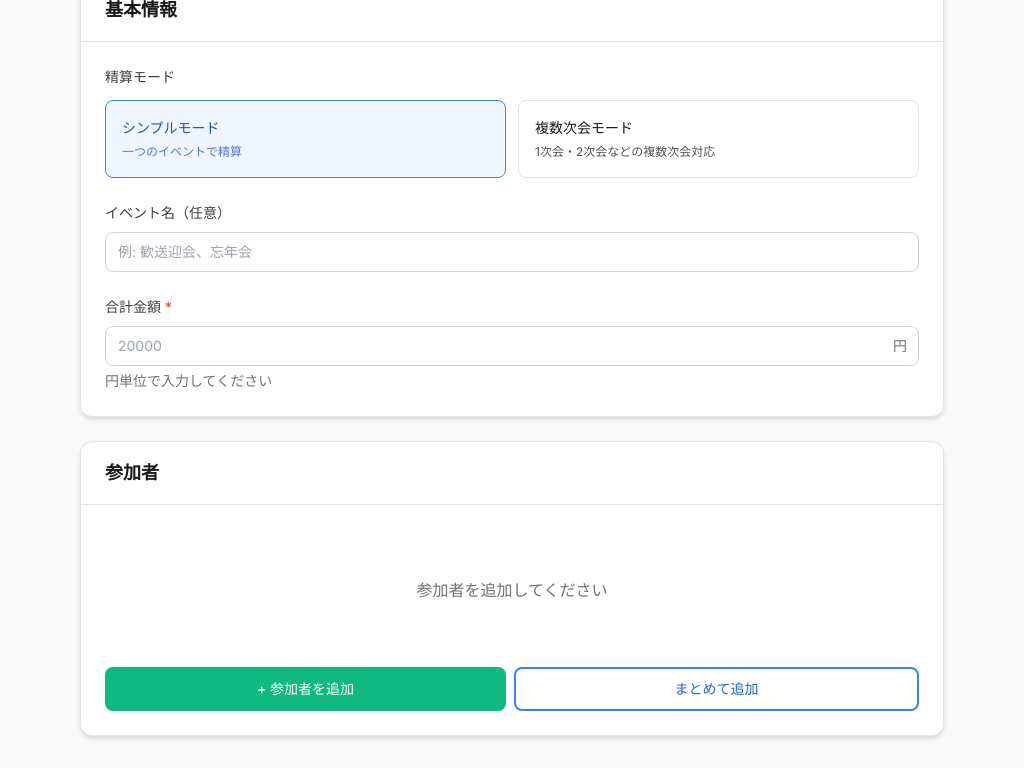
HomePage › TC010: 参加者が削除される
This screenshot has width=1024, height=768.
(page scrolled)
Click the button "+ 参加者を追加" at [306, 689], box [105,667,506,711]
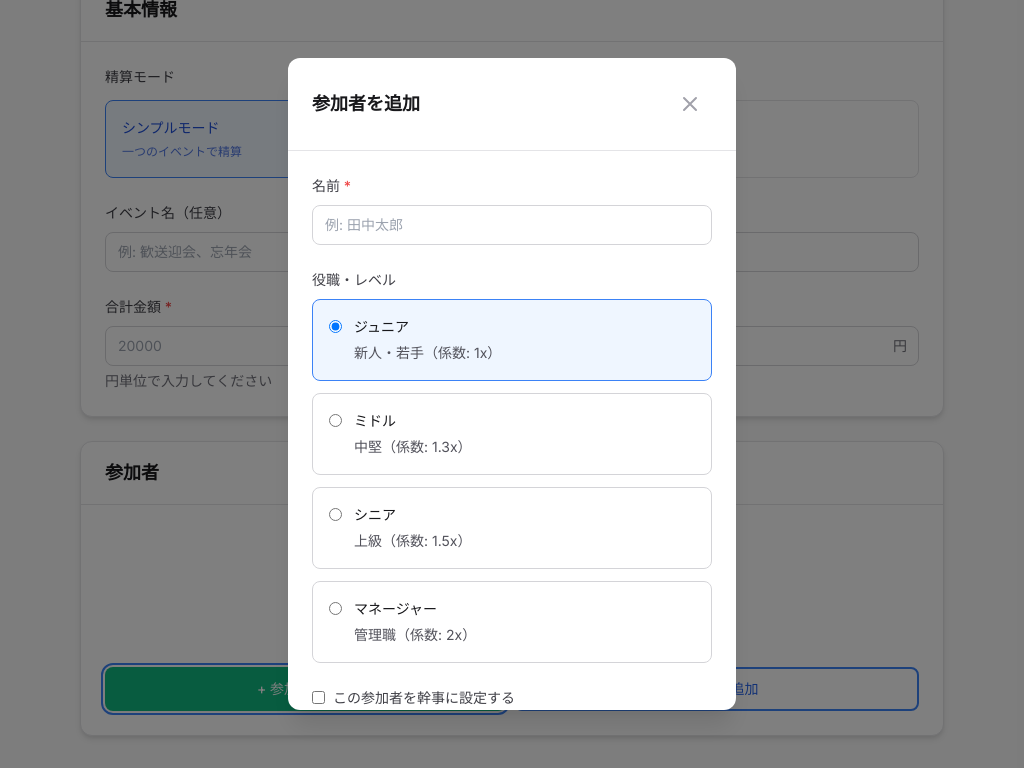
expect the heading "参加者を追加" is shown: met, box [312,89,436,119]
Type "田中太郎" into the field labelled "名前 *" at [512, 225], box [312,205,712,245]
(page scrolled)
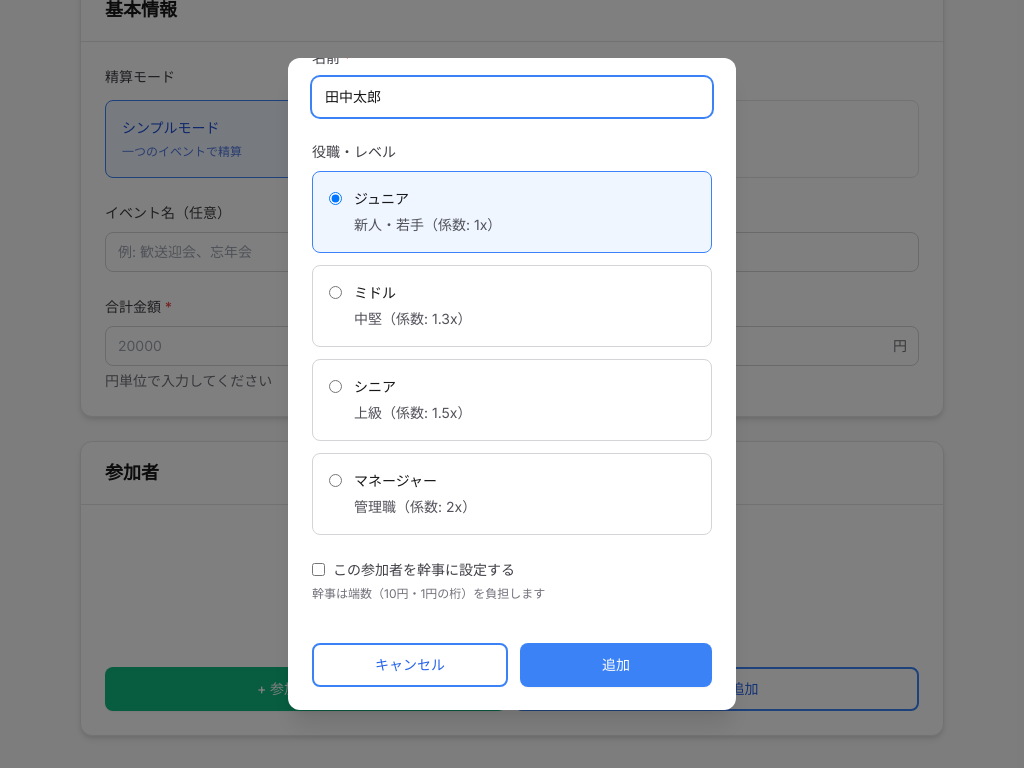
Click the button "追加" at [616, 665], box [520,643,712,687]
(page scrolled)
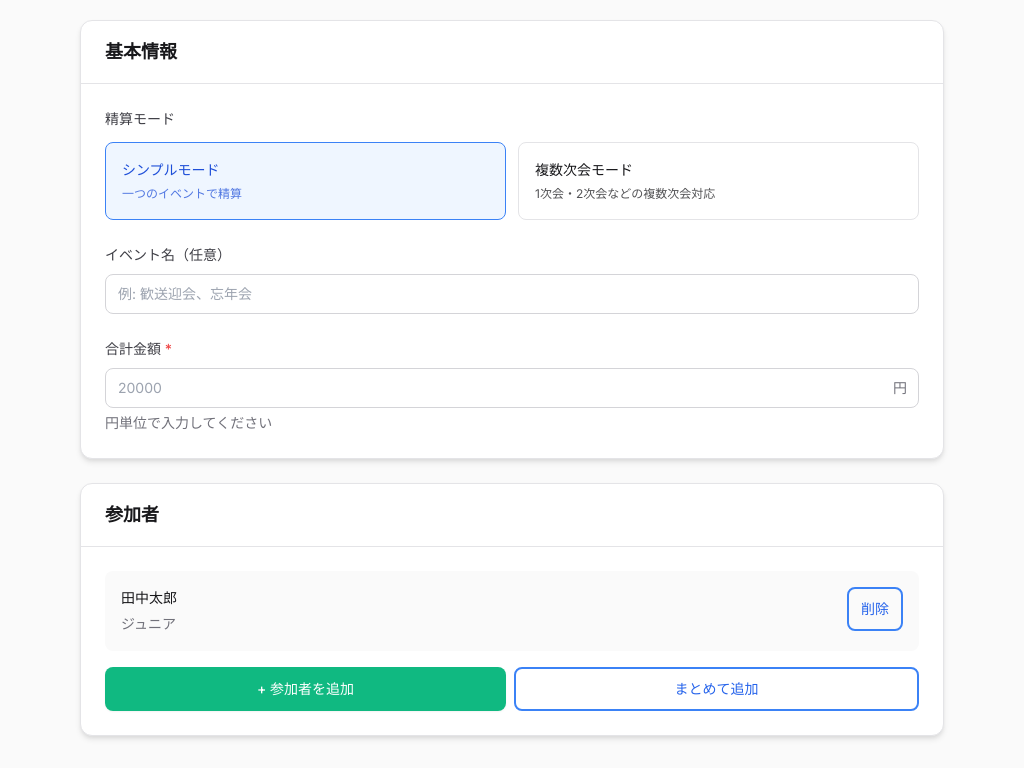
expect the text "田中太郎" is shown: met, box [121,589,177,606]
削除ボタンをクリック
Click the button "削除" at [875, 609], box [847,587,903,631]
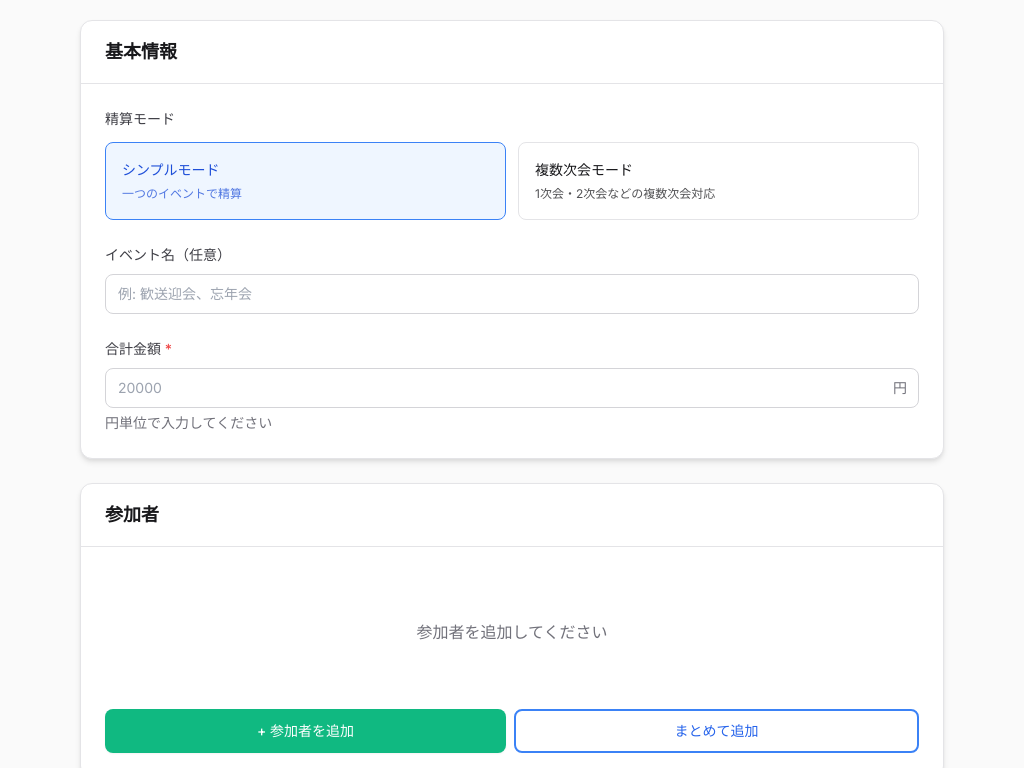
expect the text "田中太郎" is gone: met
expect the text "参加者を追加してください" is shown: met, box [416,622,608,642]
